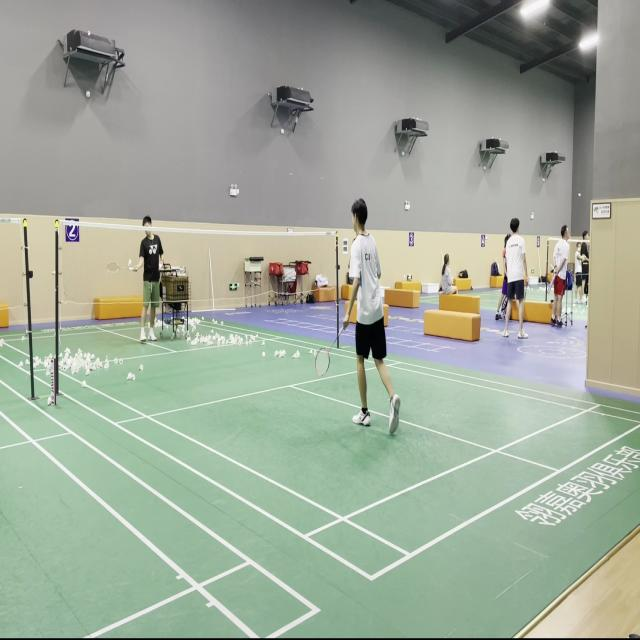shuttlecock: (128, 258, 132, 267)
